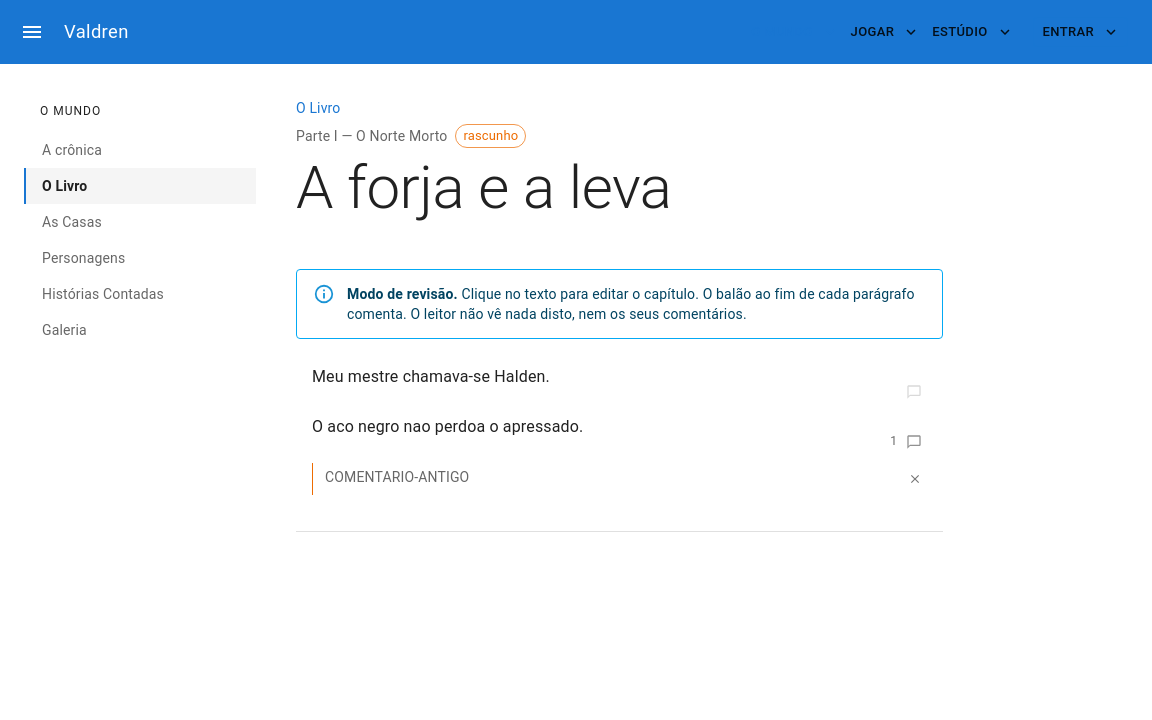
Test case: LivroCapituloPage para o Mestre › mostra os comentários com o trecho citado enquanto o capítulo é editado
This screenshot has width=1152, height=720.
Click the element with test id "prosa-do-capitulo" at (431,377), box [296,363,943,507]
(page scrolled)
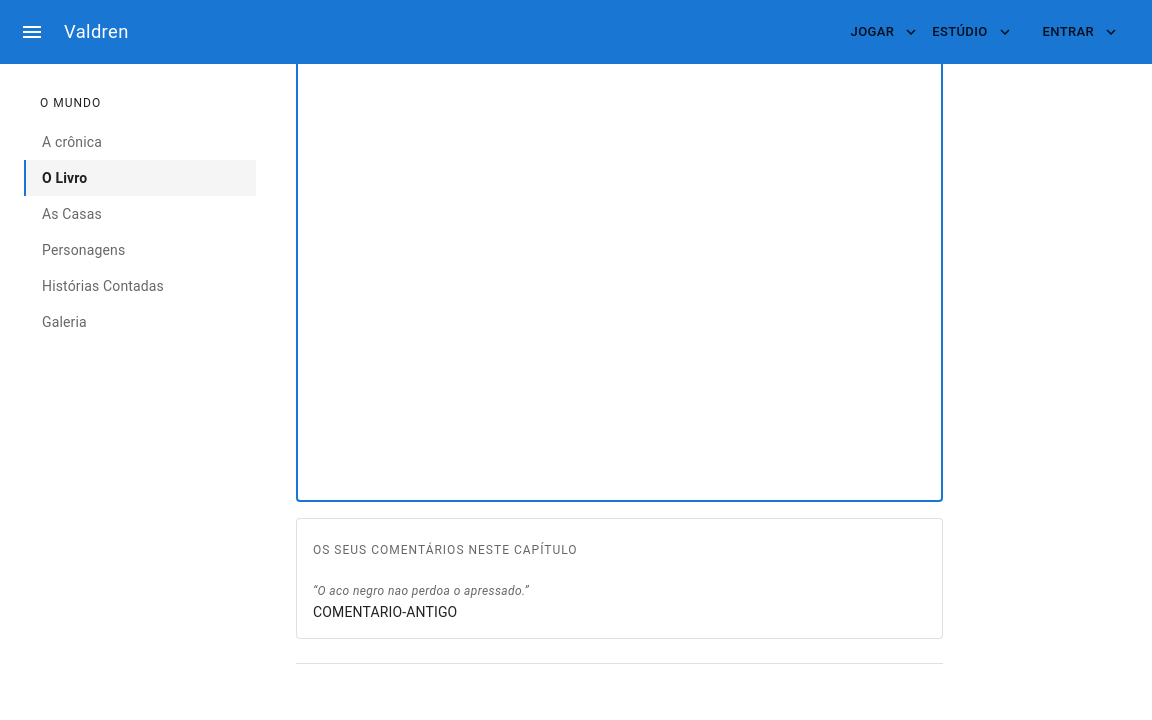
Expected: the text "COMENTARIO-ANTIGO" is shown, [313,604,457,620]
Now the text "“O aco negro nao perdoa o apressado.”" is shown, box [313,584,529,598]
